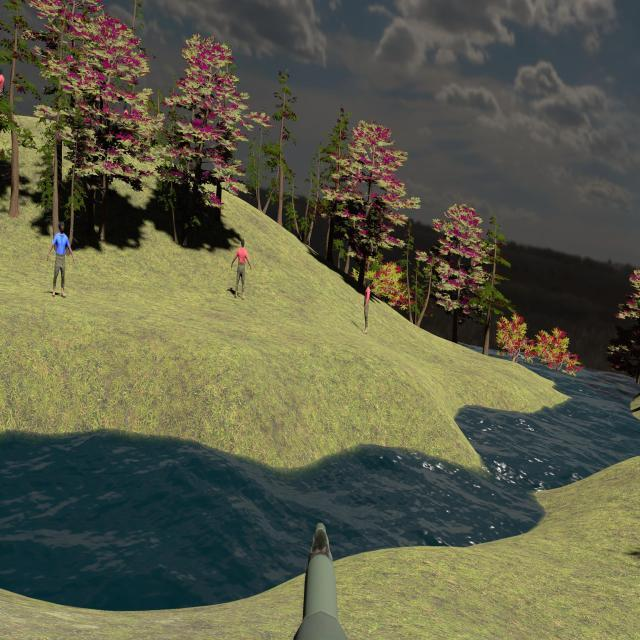Human: (47, 221, 75, 298), (47, 221, 75, 297), (231, 239, 251, 299), (362, 278, 371, 334)
